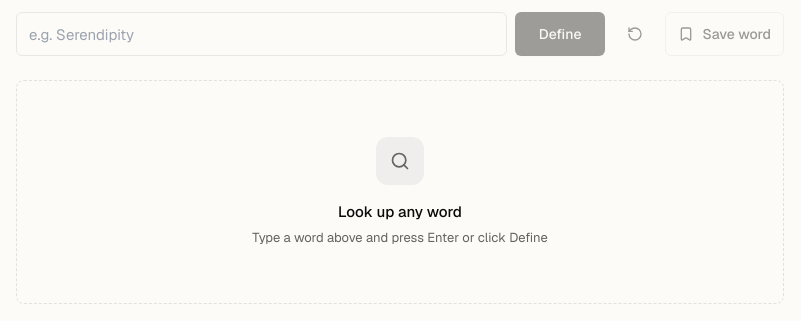
Test: WordDefinition › falls back to pronunciation subtitle when IPA request fails
The image size is (801, 321).
Type "serendipity" into the field with placeholder "e.g. Serendipity" at (261, 34), box [16,12,507,56]
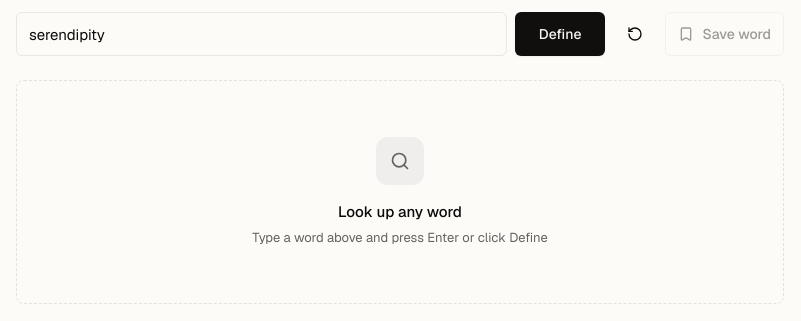
Click the button "Define" at (560, 34), box [515,12,606,56]
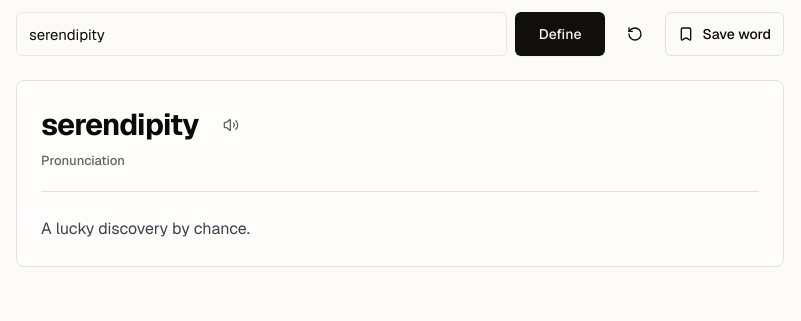
Now the text "Pronunciation" is shown, box [41,152,125,169]
